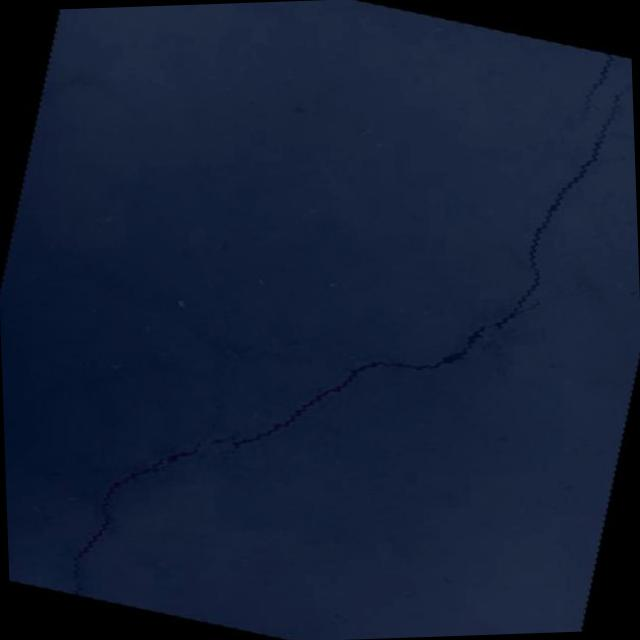crack: (203, 6, 640, 533), (58, 362, 235, 620), (576, 50, 616, 128), (208, 416, 248, 454), (478, 332, 502, 354), (199, 448, 212, 458)
